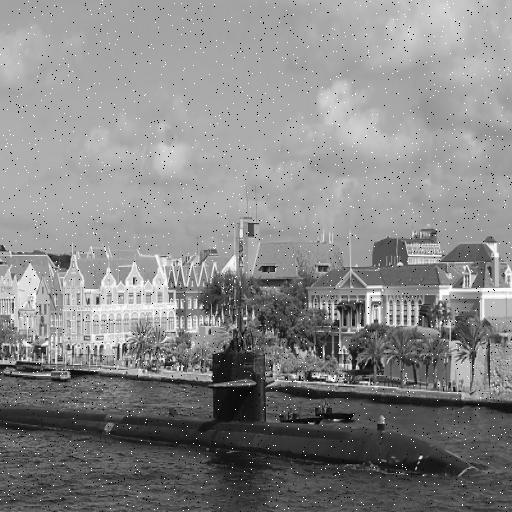submarine: (1, 345, 491, 481)
